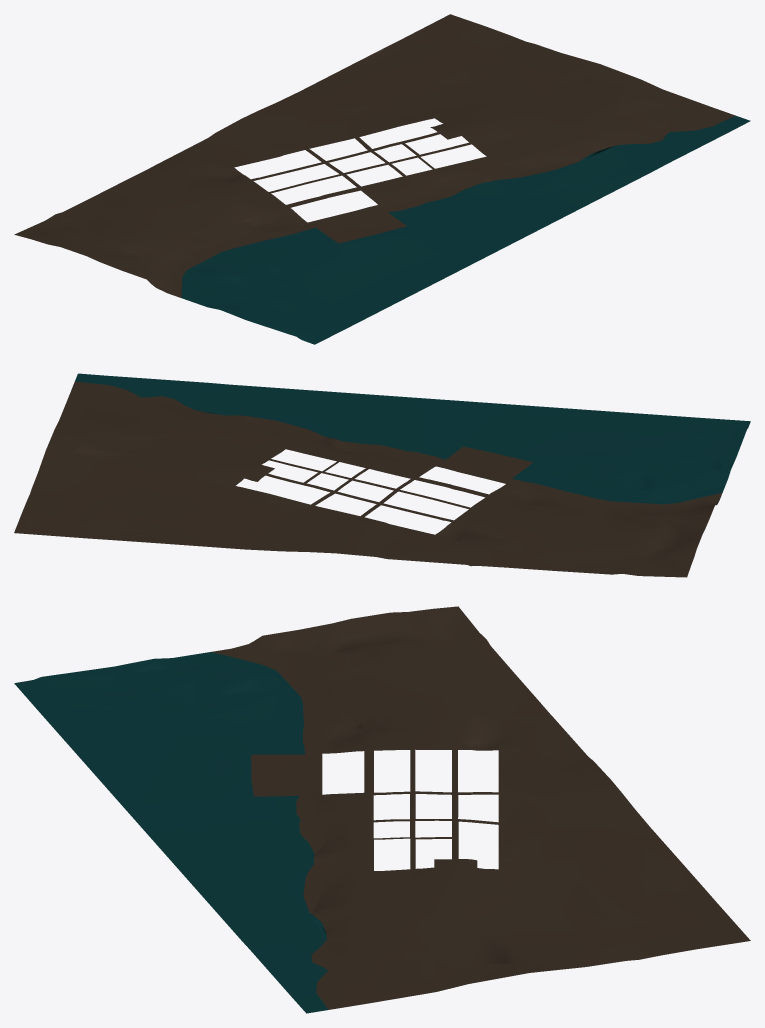
3 views of the same model, one above another, from view 1: azimuth 30°, elevation 25°; view 2: azimuth 150°, elevation 25°; view 3: azimuth 270°, elevation 25° (orthographic). The views are drawn at different scales.
Visible parts, largest first — view 1: Land, Water; view 2: Land, Water; view 3: Land, Water.
Part boxes in pixels (box(x1,y1,x2,y2)): Land: box(14, 14, 735, 297); Water: box(181, 116, 750, 344); Land: box(14, 381, 722, 577); Water: box(75, 373, 750, 504); Land: box(211, 606, 750, 1009); Water: box(14, 652, 328, 1013).
Size of the model in its own units: 298498 by 4370 by 231954.
